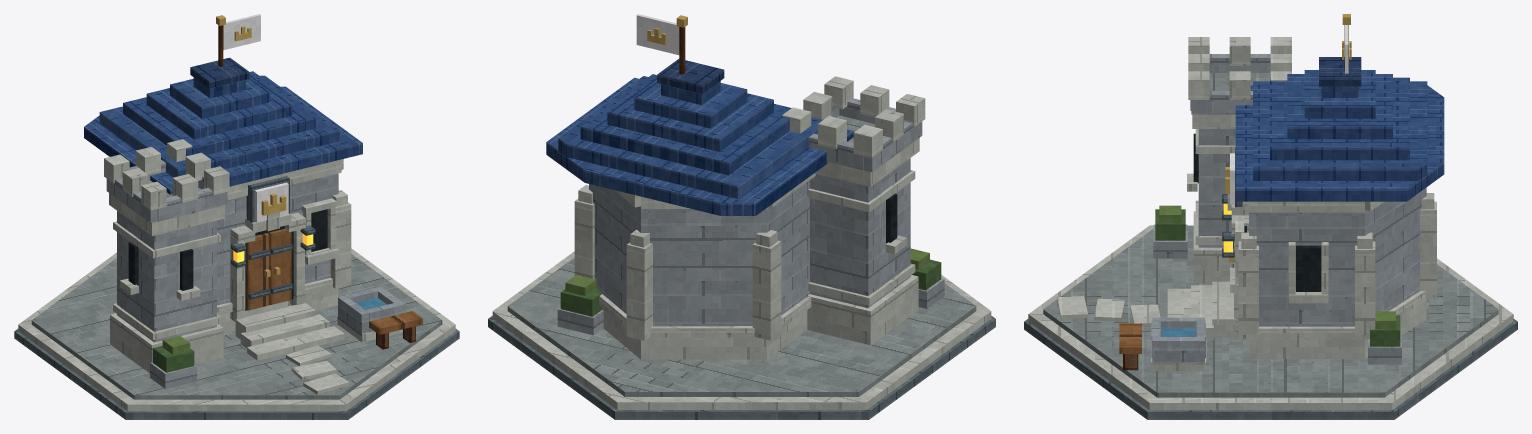
The model's file is city_level_1_hex_v1.glb.
3 renders of one model, left to right at view 1: azimuth 30°, elevation 25°; view 2: azimuth 150°, elevation 25°; view 3: azimuth 270°, elevation 25°, orthographic. The views are drawn at different scales.
Parts seen in each view (by area): view 1: City_Level_1_Hex_V1_Foundation, City_Level_1_Hex_V1_Turret, City_Level_1_Hex_V1_Roofs, City_Level_1_Hex_V1_Architecture, City_Level_1_Hex_V1_Courtyard, City_Level_1_Hex_V1_Keep, City_Level_1_Hex_V1_Details, City_Level_1_Hex_V1_Faction; view 2: City_Level_1_Hex_V1_Foundation, City_Level_1_Hex_V1_Roofs, City_Level_1_Hex_V1_Keep, City_Level_1_Hex_V1_Turret, City_Level_1_Hex_V1_Architecture, City_Level_1_Hex_V1_Details, City_Level_1_Hex_V1_Courtyard, City_Level_1_Hex_V1_Faction; view 3: City_Level_1_Hex_V1_Foundation, City_Level_1_Hex_V1_Roofs, City_Level_1_Hex_V1_Keep, City_Level_1_Hex_V1_Turret, City_Level_1_Hex_V1_Architecture, City_Level_1_Hex_V1_Courtyard, City_Level_1_Hex_V1_Details, City_Level_1_Hex_V1_Faction.
Boxes of the visible parts, left/top/right/bottom form: City_Level_1_Hex_V1_Foundation: left=14, top=248, right=459, bottom=419; City_Level_1_Hex_V1_Turret: left=104, top=139, right=229, bottom=373; City_Level_1_Hex_V1_Roofs: left=84, top=57, right=362, bottom=194; City_Level_1_Hex_V1_Architecture: left=120, top=190, right=351, bottom=321; City_Level_1_Hex_V1_Courtyard: left=150, top=286, right=405, bottom=394; City_Level_1_Hex_V1_Keep: left=217, top=159, right=343, bottom=332; City_Level_1_Hex_V1_Details: left=152, top=15, right=422, bottom=372; City_Level_1_Hex_V1_Faction: left=223, top=14, right=288, bottom=222; City_Level_1_Hex_V1_Foundation: left=488, top=251, right=995, bottom=419; City_Level_1_Hex_V1_Roofs: left=546, top=59, right=854, bottom=215; City_Level_1_Hex_V1_Keep: left=589, top=173, right=815, bottom=359; City_Level_1_Hex_V1_Turret: left=782, top=76, right=925, bottom=345; City_Level_1_Hex_V1_Architecture: left=574, top=185, right=907, bottom=340; City_Level_1_Hex_V1_Details: left=560, top=15, right=941, bottom=316; City_Level_1_Hex_V1_Courtyard: left=557, top=278, right=944, bottom=335; City_Level_1_Hex_V1_Faction: left=636, top=14, right=679, bottom=54; City_Level_1_Hex_V1_Foundation: left=1024, top=225, right=1517, bottom=419; City_Level_1_Hex_V1_Roofs: left=1235, top=57, right=1444, bottom=201; City_Level_1_Hex_V1_Keep: left=1242, top=187, right=1426, bottom=358; City_Level_1_Hex_V1_Turret: left=1188, top=37, right=1291, bottom=283; City_Level_1_Hex_V1_Architecture: left=1187, top=133, right=1436, bottom=339; City_Level_1_Hex_V1_Courtyard: left=1057, top=224, right=1401, bottom=371; City_Level_1_Hex_V1_Details: left=1119, top=14, right=1400, bottom=370; City_Level_1_Hex_V1_Faction: left=1230, top=25, right=1348, bottom=204.
Bounding box in the file's own units: 1.45 × 1.22 × 1.68.
Materials: 1 (1 with a texture image).
